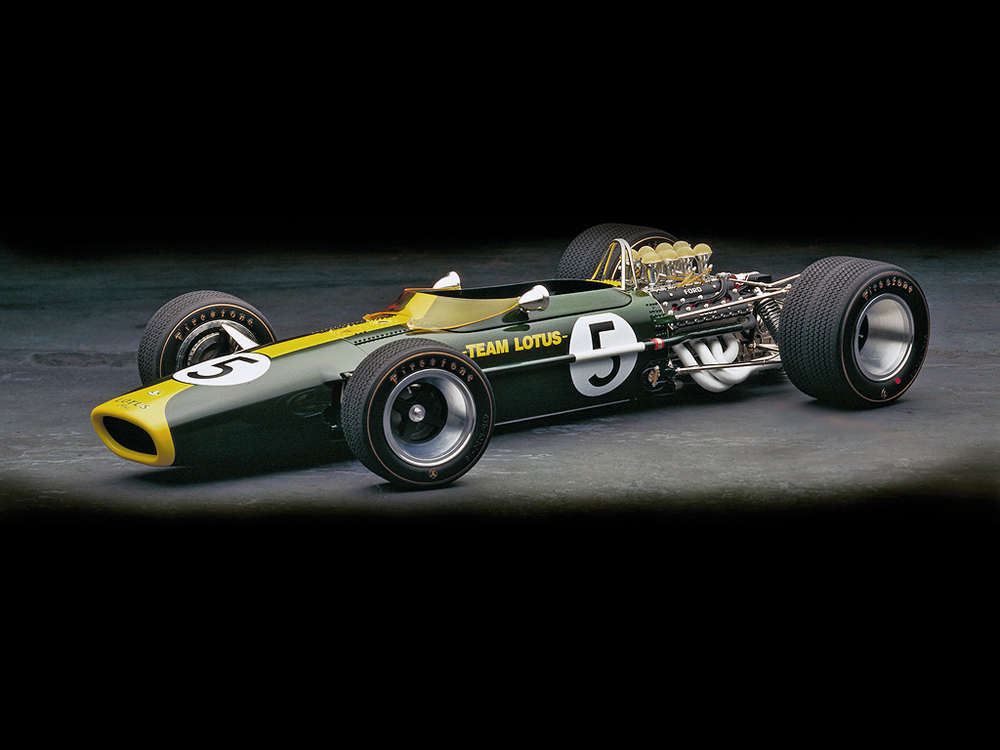f1_car: (80, 207, 943, 520)
